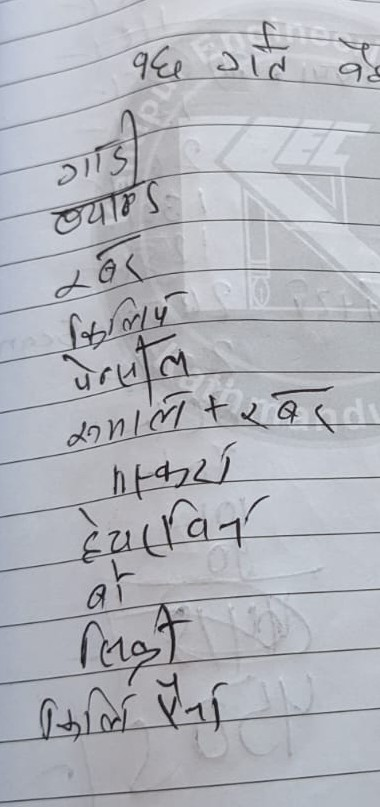text: (34, 676, 229, 750), (71, 501, 257, 564), (73, 605, 185, 674), (65, 390, 190, 449), (99, 439, 229, 492), (60, 341, 194, 391), (54, 109, 142, 184), (62, 294, 181, 342), (50, 239, 146, 294), (46, 192, 164, 236), (234, 384, 338, 433), (210, 23, 293, 83), (79, 565, 128, 615), (127, 43, 190, 79)
